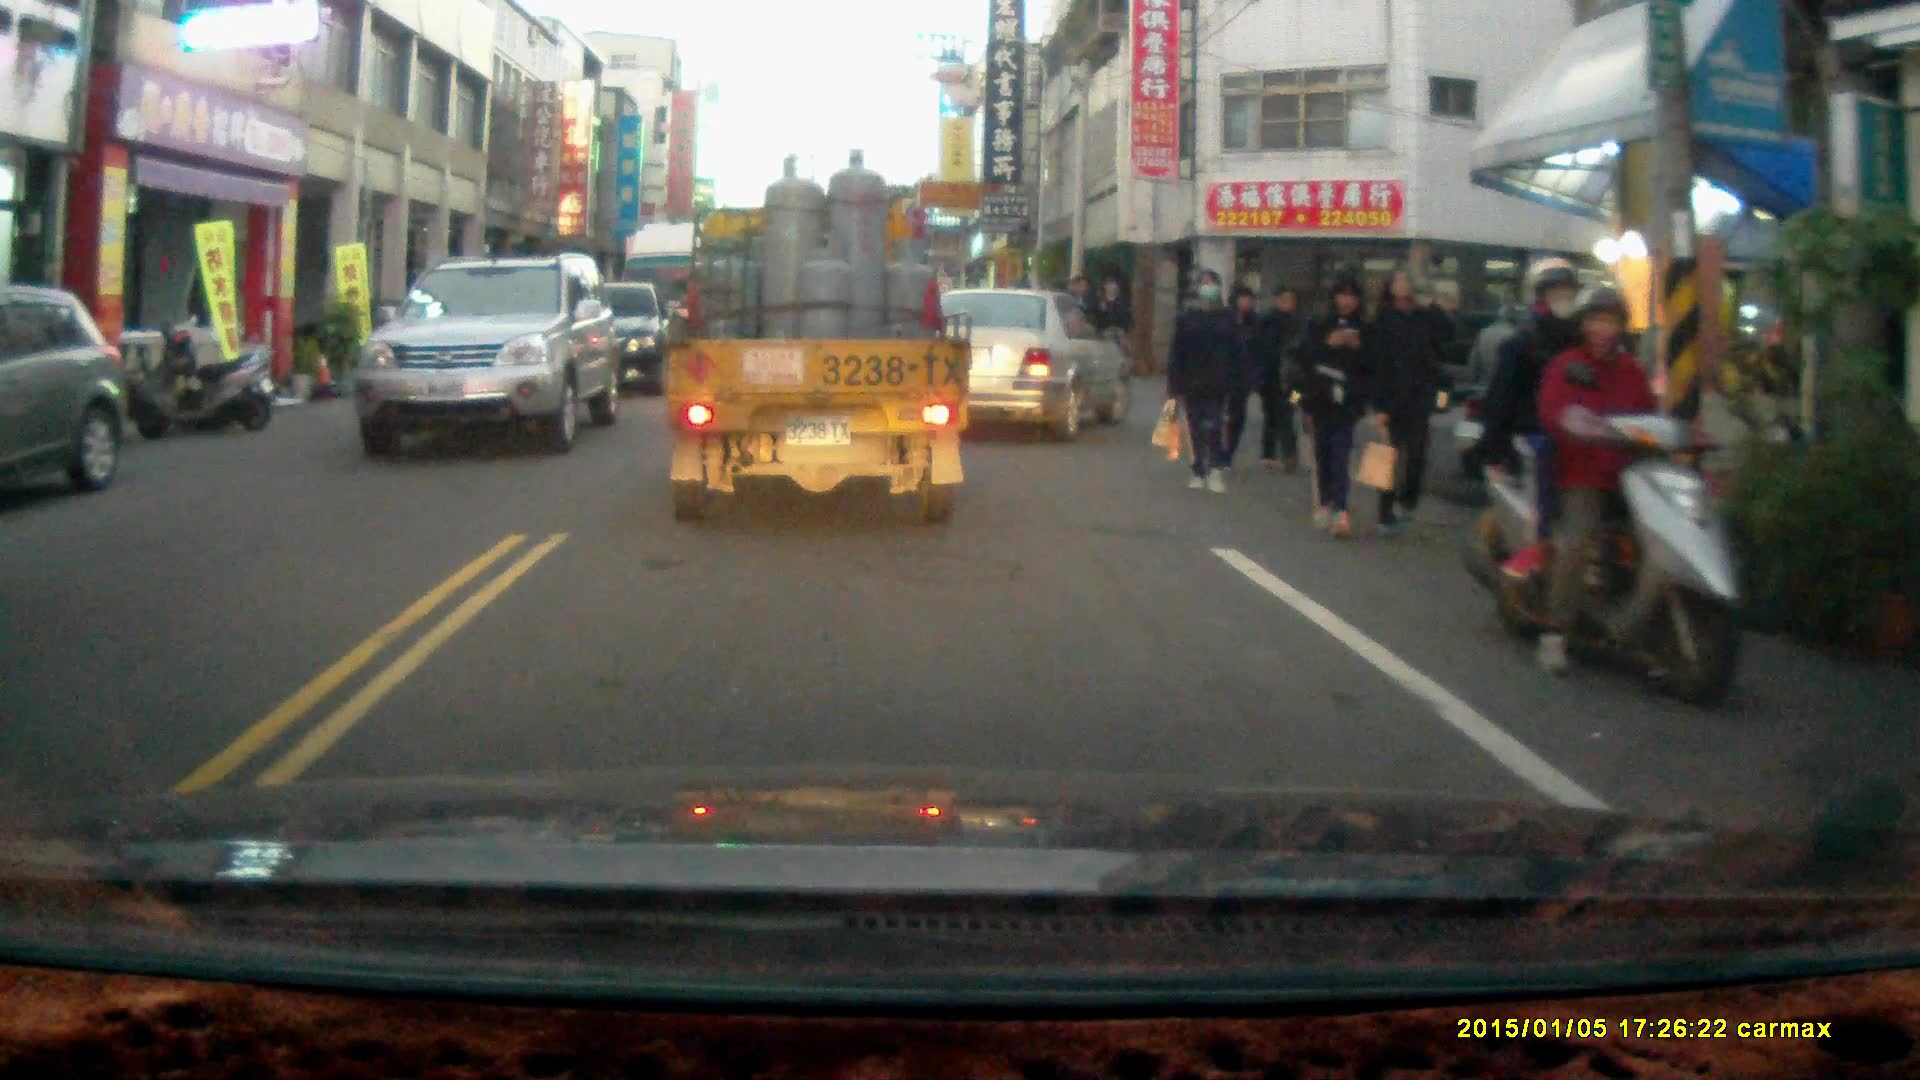pedestrian: (1360, 265, 1451, 541), (1291, 272, 1372, 539), (1169, 272, 1240, 494), (1248, 278, 1315, 467), (1214, 280, 1268, 464), (1089, 275, 1135, 390), (1058, 273, 1101, 393)
rider: (1464, 252, 1751, 709), (1456, 304, 1558, 489)
vehicle: (666, 146, 973, 525), (356, 254, 626, 463), (0, 278, 137, 513), (939, 286, 1129, 442)
